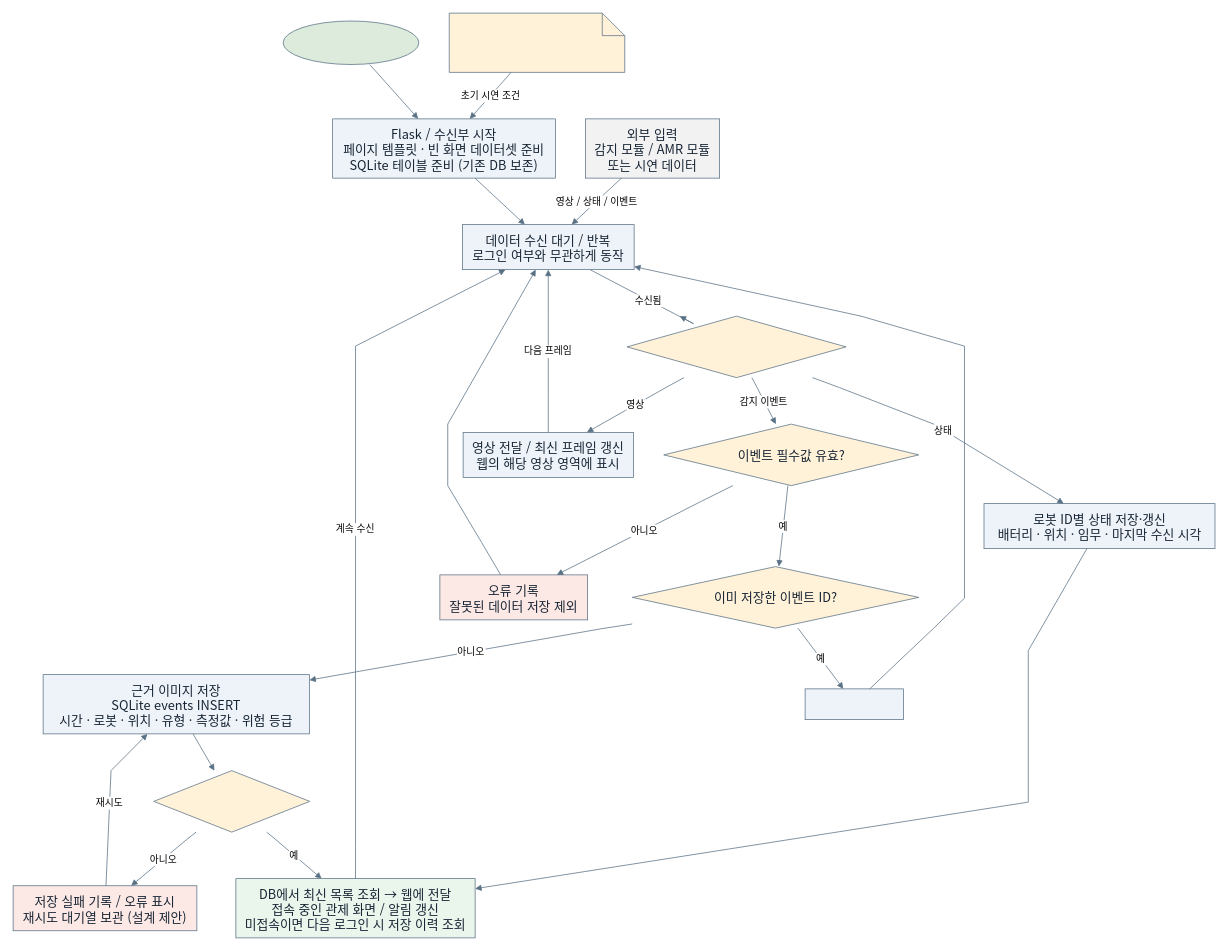
The diagram is 1229 pixels wide and 951 high, and some of its shapes have lost their labels. Each missing label, with the centre of its shape:
"Sysmon 시작" belongs at (x=350, y=42).
"수신 데이터 종류" belongs at (x=736, y=346).
"시연 준비 관리자 계정 사전 등록 이벤트 0건인 시연용 DB 사용" belongs at (x=536, y=42).
"저장 성공?" belongs at (x=231, y=801).
"중복 저장 생략" belongs at (x=853, y=704).
